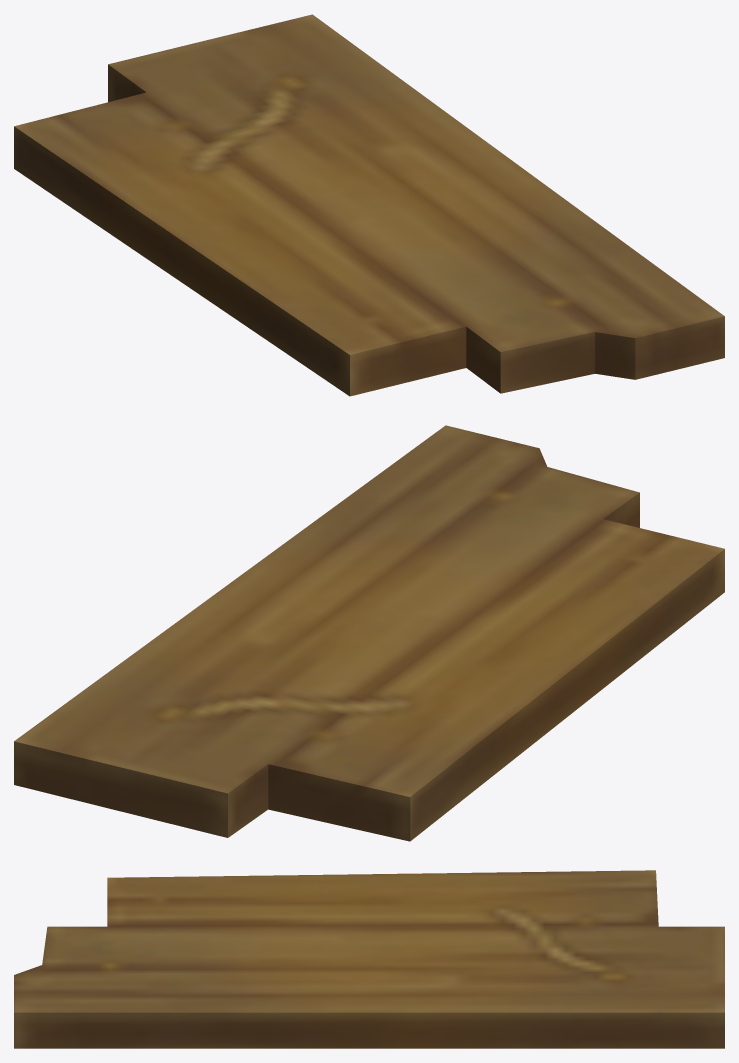
Rendered from Stage_ZhuCheng_MuBan02.FBX.
3 views of the same model, one above another, from view 1: azimuth 30°, elevation 25°; view 2: azimuth 150°, elevation 25°; view 3: azimuth 270°, elevation 25° (orthographic). The views are drawn at different scales.
Parts seen in each view (by area): view 1: Stage_ZhuCheng_MuBan02; view 2: Stage_ZhuCheng_MuBan02; view 3: Stage_ZhuCheng_MuBan02.
Boxes of the visible parts, left/top/right/bottom form: Stage_ZhuCheng_MuBan02: left=14, top=14, right=724, bottom=396; Stage_ZhuCheng_MuBan02: left=14, top=425, right=724, bottom=841; Stage_ZhuCheng_MuBan02: left=14, top=870, right=724, bottom=1048.
Size of the model in its own units: 73 by 8.95 by 154.
